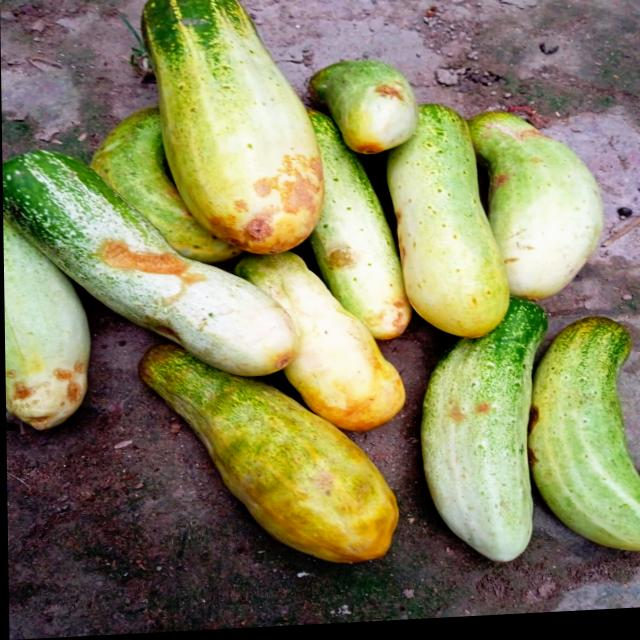Belly-Rot: (206, 154, 355, 287), (91, 223, 213, 313), (4, 358, 91, 436), (138, 309, 185, 355), (365, 297, 412, 343), (440, 398, 496, 434), (519, 405, 540, 486), (388, 208, 411, 273), (368, 78, 409, 114), (484, 168, 511, 209), (512, 127, 549, 155)
